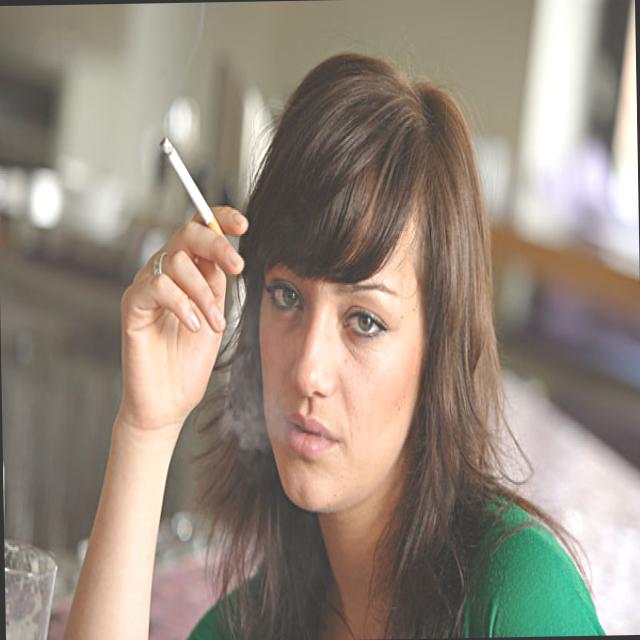cigarette: (160, 131, 214, 226)
